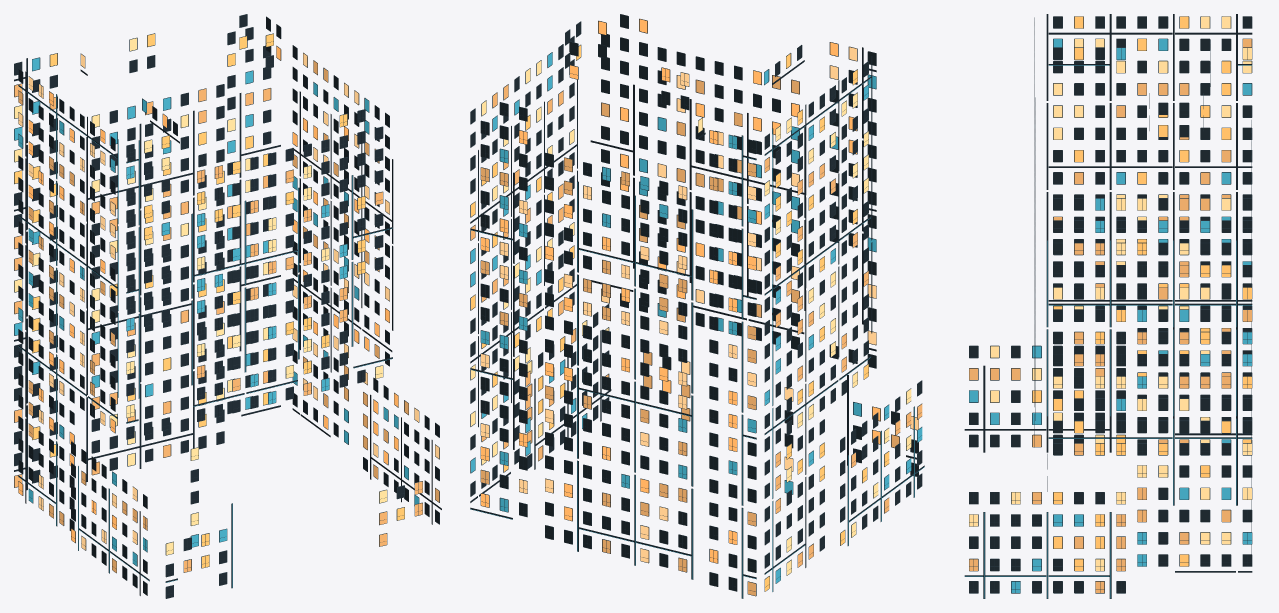
Rendered from runtime-facade-building-162.glb.
The picture shows the model from 3 angles, left to right: view 1: azimuth 30°, elevation 25°; view 2: azimuth 150°, elevation 25°; view 3: azimuth 270°, elevation 25°; orthographic projection. The views are drawn at different scales.
Visible parts, largest first — view 1: Facade fittings / building-162; view 2: Facade fittings / building-162; view 3: Facade fittings / building-162.
Boxes of the visible parts, x1=… form: Facade fittings / building-162: x1=14, y1=14, x2=441, y2=598; Facade fittings / building-162: x1=470, y1=14, x2=924, y2=598; Facade fittings / building-162: x1=964, y1=14, x2=1252, y2=598.
Size of the model in its own units: 59.23 by 87.38 by 53.29.
